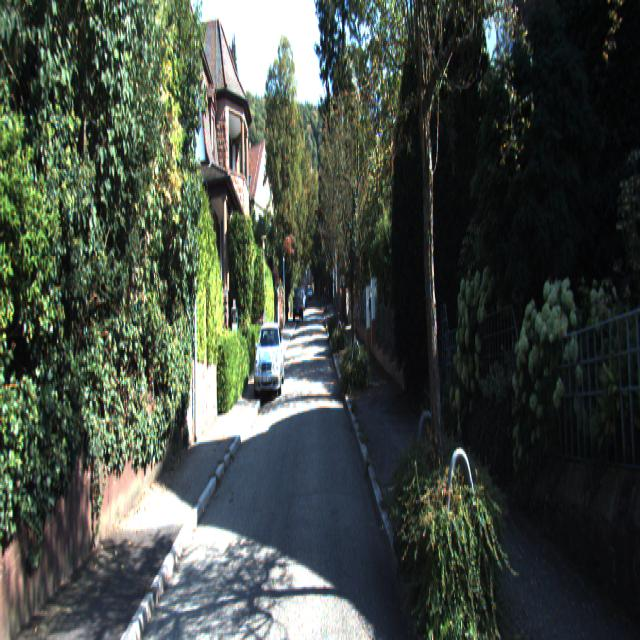Car: (253, 322, 285, 402), (293, 289, 304, 325)
